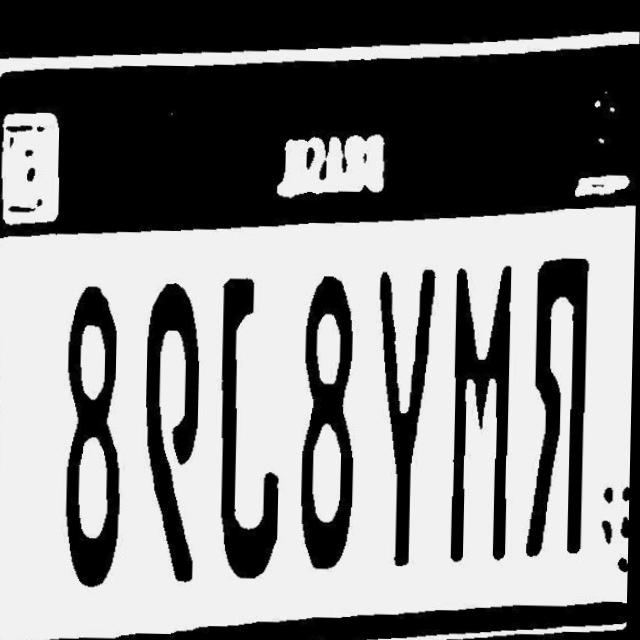8: (60, 280, 132, 591), (295, 273, 361, 575)
9: (136, 279, 219, 584)
j: (216, 272, 289, 586)
m: (443, 259, 519, 566)
r: (519, 246, 595, 558)
y: (371, 263, 439, 567)
